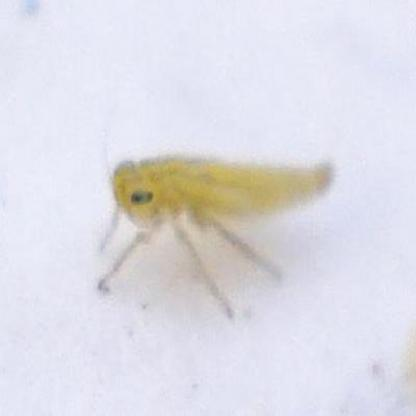green-leafhopper: (102, 146, 338, 262)
